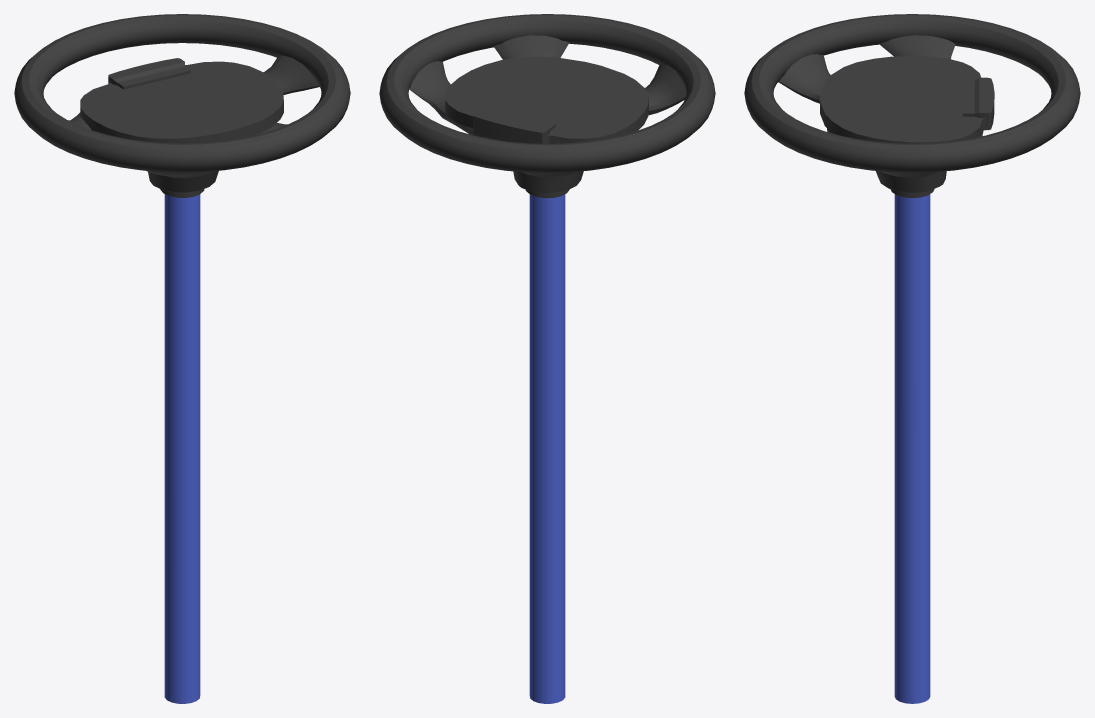
File: steering.dae
3 renders of one model, left to right at view 1: azimuth 30°, elevation 25°; view 2: azimuth 150°, elevation 25°; view 3: azimuth 270°, elevation 25°, orthographic.
Parts seen in each view (by area): view 1: volanteOrign; view 2: volanteOrign; view 3: volanteOrign.
Part boxes in pixels (bbox=[...]): volanteOrign: bbox=[14, 14, 350, 703]; volanteOrign: bbox=[379, 14, 715, 703]; volanteOrign: bbox=[744, 14, 1080, 703].
Size of the model in its own units: 33.84 by 33.84 by 68.44.
